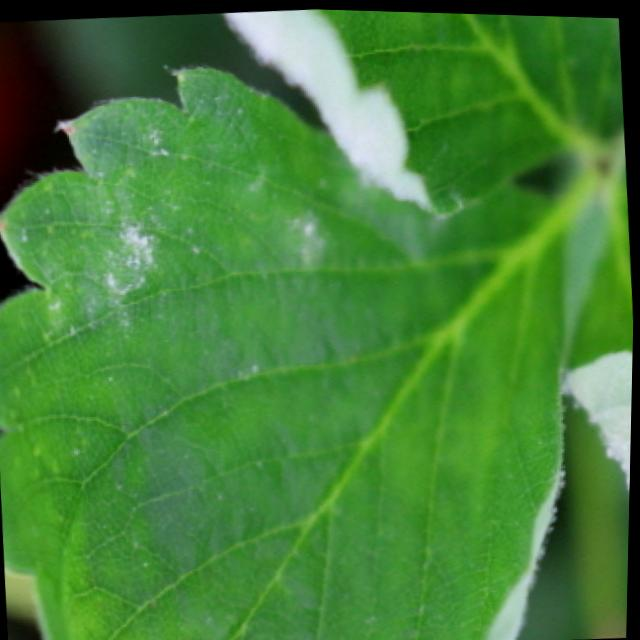Powdery Mildew Leaf: (0, 63, 570, 640), (220, 7, 624, 217), (558, 139, 635, 491)
